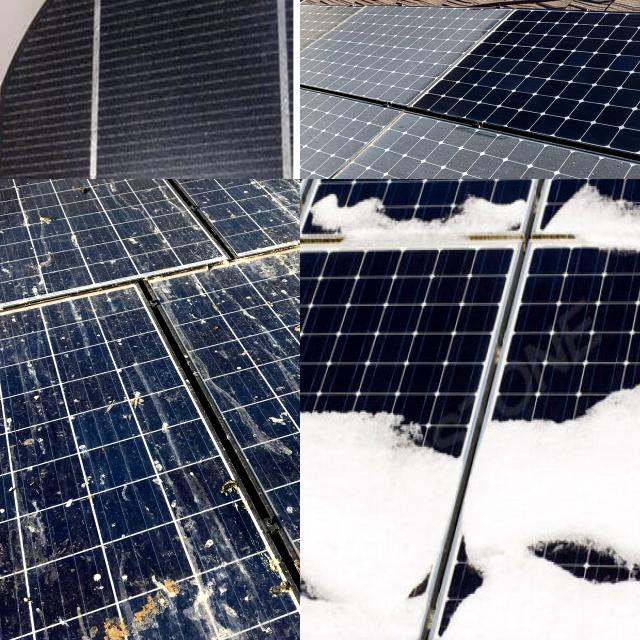bird: (92, 561, 187, 640), (1, 400, 52, 460), (112, 361, 150, 424), (14, 508, 56, 562), (0, 545, 30, 609), (28, 194, 62, 242), (219, 472, 241, 540), (236, 179, 290, 204), (261, 575, 300, 608), (72, 179, 110, 208), (286, 311, 300, 357)
dust: (340, 13, 454, 71), (300, 101, 360, 179)
panel: (481, 349, 640, 603), (300, 409, 445, 612), (314, 179, 527, 283), (300, 179, 368, 394), (407, 518, 505, 622), (545, 179, 640, 273), (300, 531, 327, 640)
